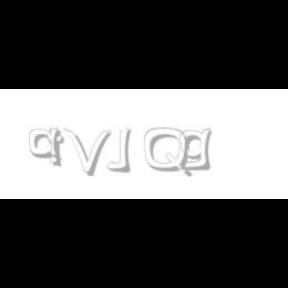J: (106, 128, 132, 172)
Q: (144, 128, 190, 178)
V: (64, 128, 112, 176)
a: (30, 128, 66, 160)
g: (179, 128, 216, 171)
t: (47, 128, 69, 168)
